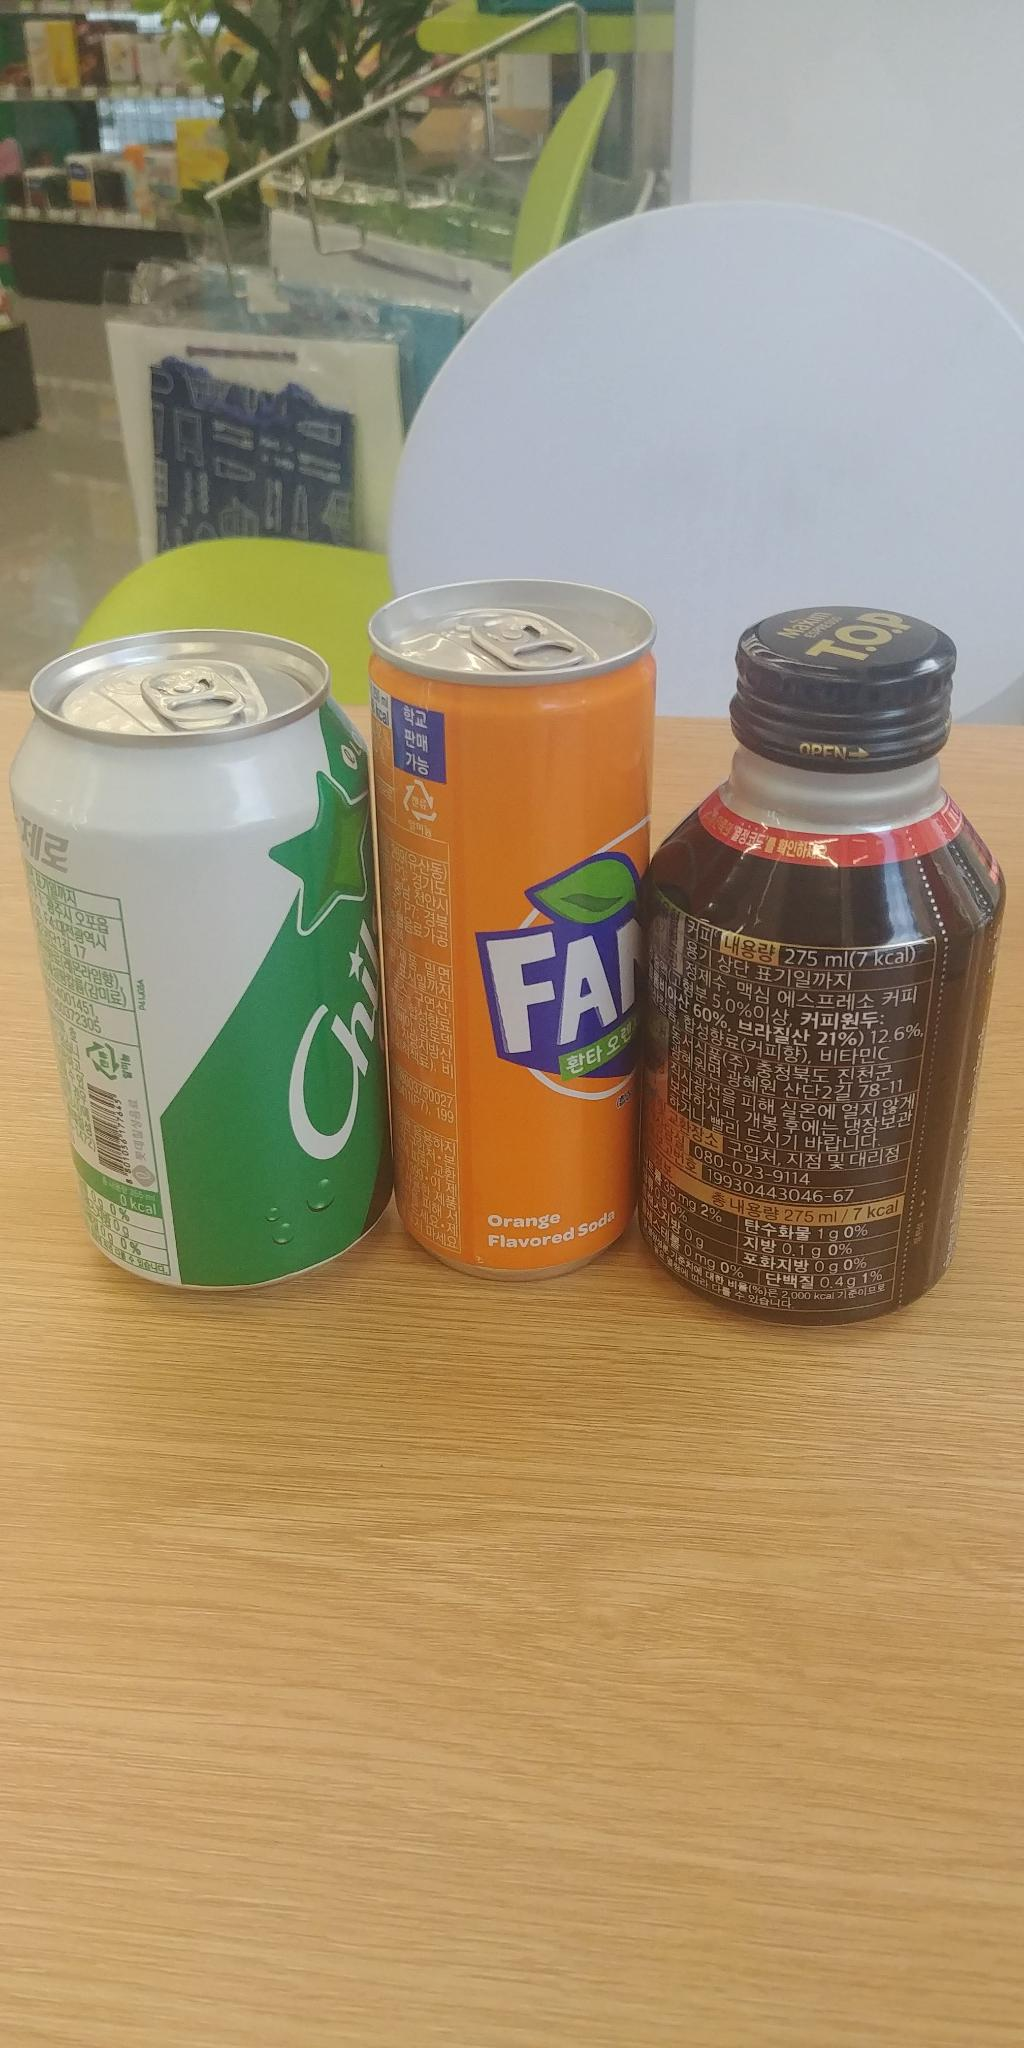TOP_black: (643, 571, 1011, 1343)
